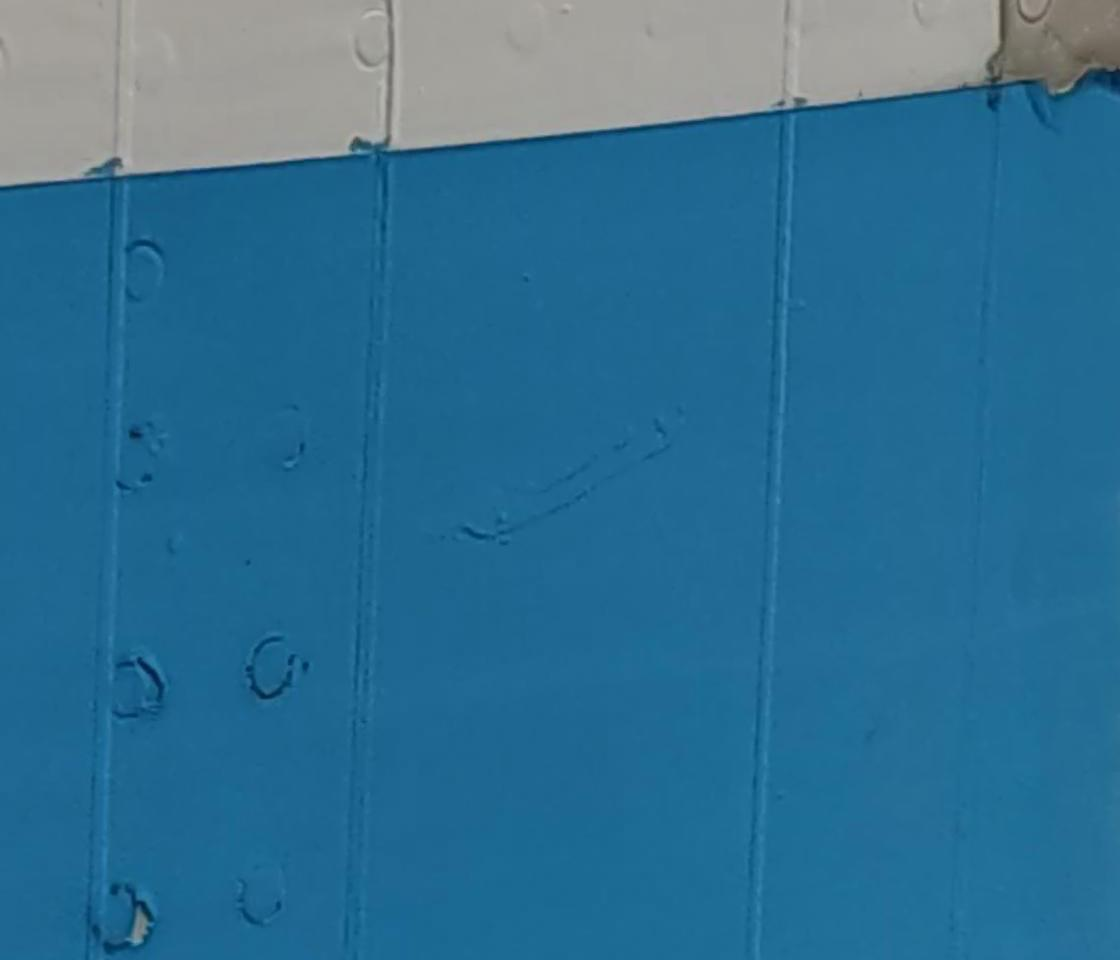paint_peel: (120, 891, 164, 950)
